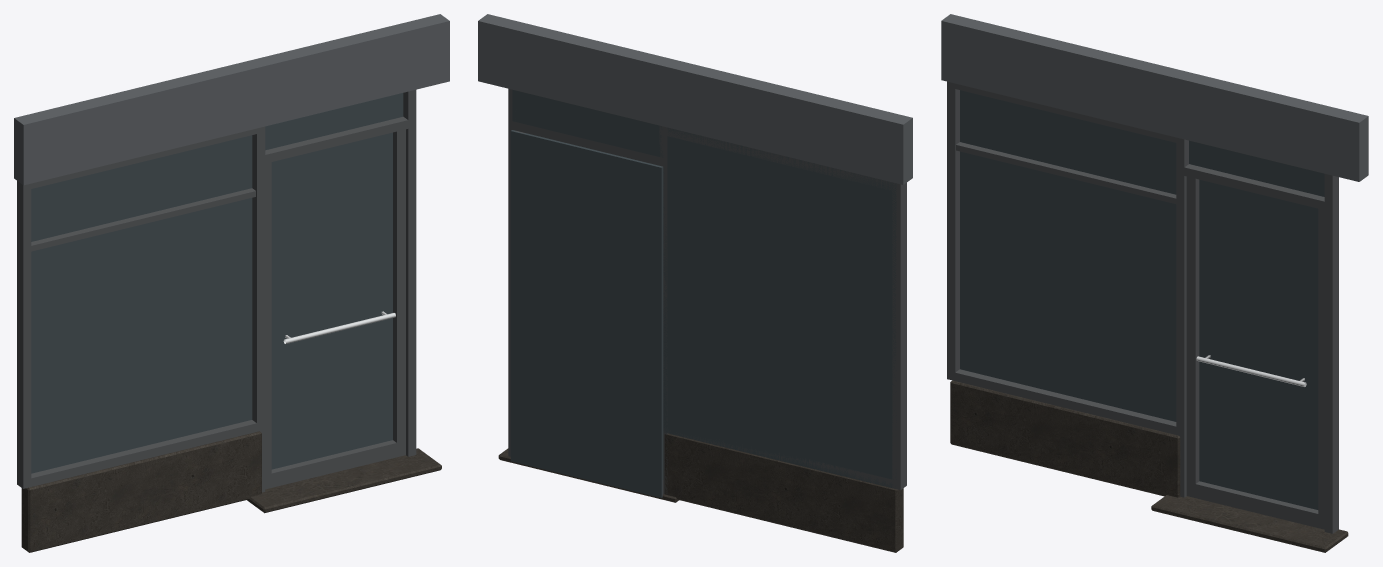
File: shopfront-narrow.glb
3 views of the same model, side by side, from view 1: azimuth 30°, elevation 25°; view 2: azimuth 150°, elevation 25°; view 3: azimuth 330°, elevation 25° (orthographic).
Visible parts, largest first — view 1: shopfront-narrow; view 2: shopfront-narrow; view 3: shopfront-narrow.
Part boxes in pixels (left/top/right/bottom): shopfront-narrow: left=14, top=14, right=449, bottom=552; shopfront-narrow: left=478, top=14, right=912, bottom=552; shopfront-narrow: left=941, top=14, right=1368, bottom=552.
Bounding box in the file's own units: 3.1 × 3.02 × 0.3099.
5 materials, 1 textured.
